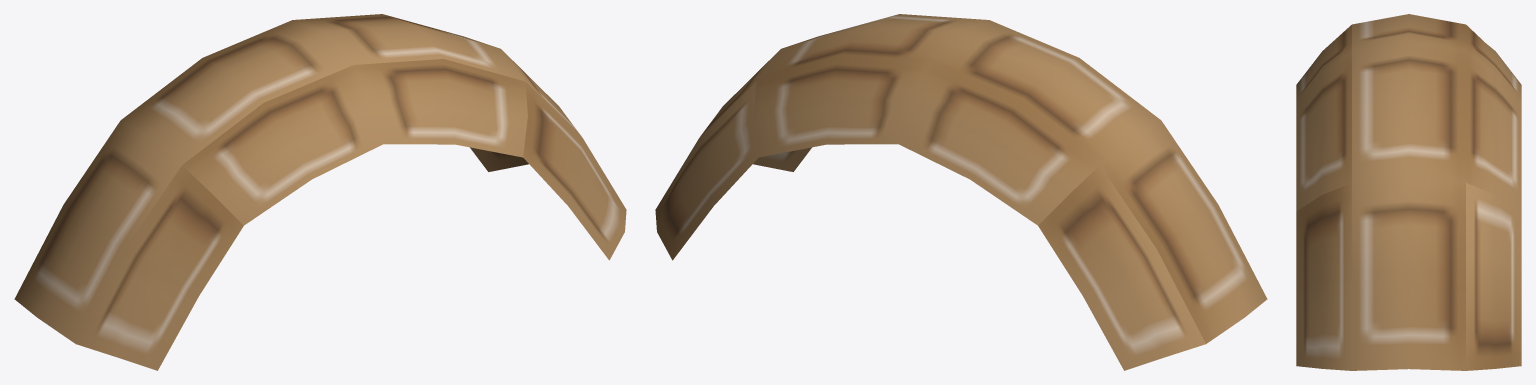
The model's file is apolloj6.obj.
3 renders of one model, left to right at view 1: azimuth 30°, elevation 25°; view 2: azimuth 150°, elevation 25°; view 3: azimuth 270°, elevation 25°, orthographic. The views are drawn at different scales.
Parts seen in each view (by area): view 1: ColobotMesh_1_ColobotMesh_; view 2: ColobotMesh_1_ColobotMesh_; view 3: ColobotMesh_1_ColobotMesh_.
Part boxes in pixels (box(x1,y1,x2,y2)): ColobotMesh_1_ColobotMesh_: box(14, 14, 626, 370); ColobotMesh_1_ColobotMesh_: box(655, 14, 1267, 370); ColobotMesh_1_ColobotMesh_: box(1296, 14, 1521, 370).
Size of the model in its own units: 4.16 by 1.68 by 1.54.
